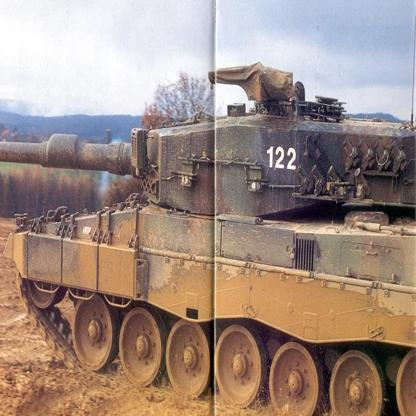Tank: (1, 61, 416, 416)
